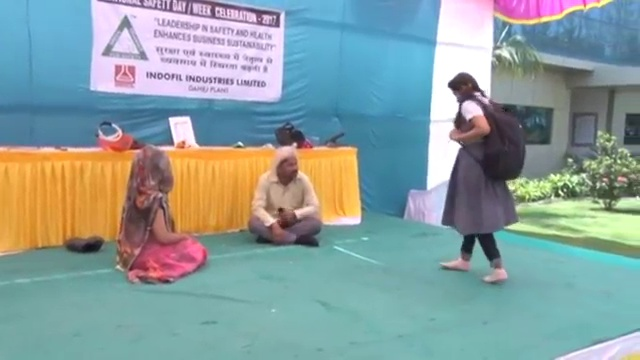helmet_off: (126, 145, 175, 193), (445, 73, 478, 102), (276, 146, 299, 183)
person: (436, 72, 527, 287), (113, 145, 208, 284), (244, 145, 324, 247)
